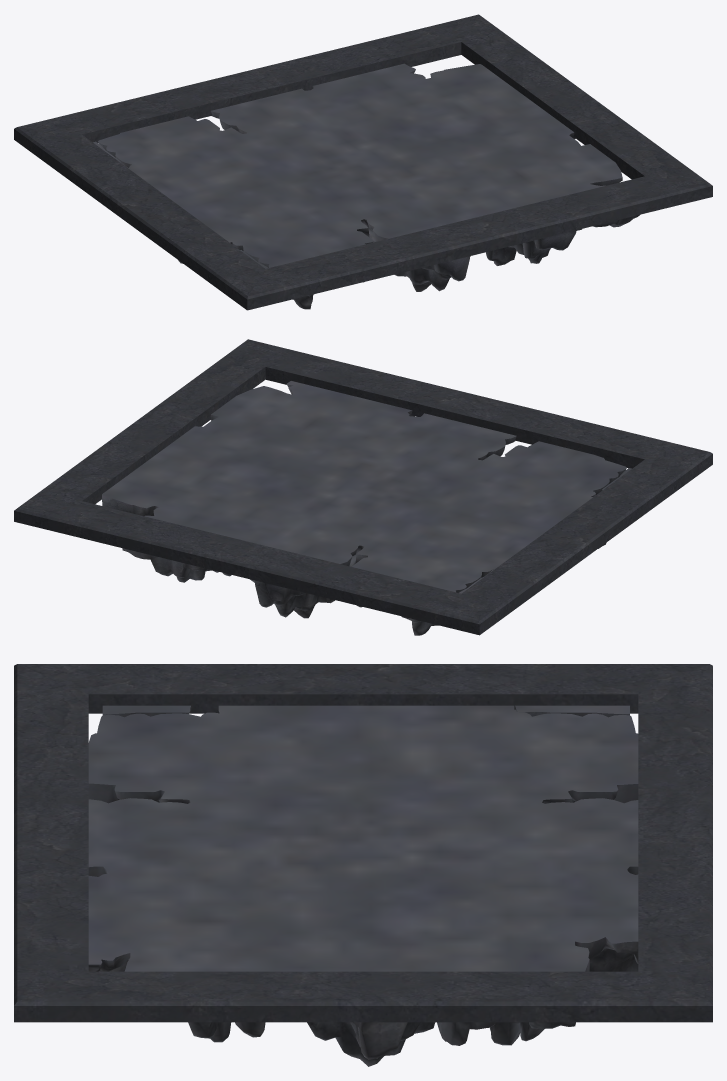
File: SM_TableBase.fbx
The picture shows the model from 3 angles, top to bottom: view 1: azimuth 30°, elevation 25°; view 2: azimuth 150°, elevation 25°; view 3: azimuth 270°, elevation 25°; orthographic projection. The views are drawn at different scales.
Visible parts, largest first — view 1: SM_TableBase; view 2: SM_TableBase; view 3: SM_TableBase.
Part boxes in pixels (box(x1,y1,x2,y2)): SM_TableBase: box(14, 14, 712, 310); SM_TableBase: box(14, 339, 712, 635); SM_TableBase: box(14, 664, 712, 1066).
Size of the model in its own units: 756 by 656 by 150.
Materials: 1 (1 with a texture image).
